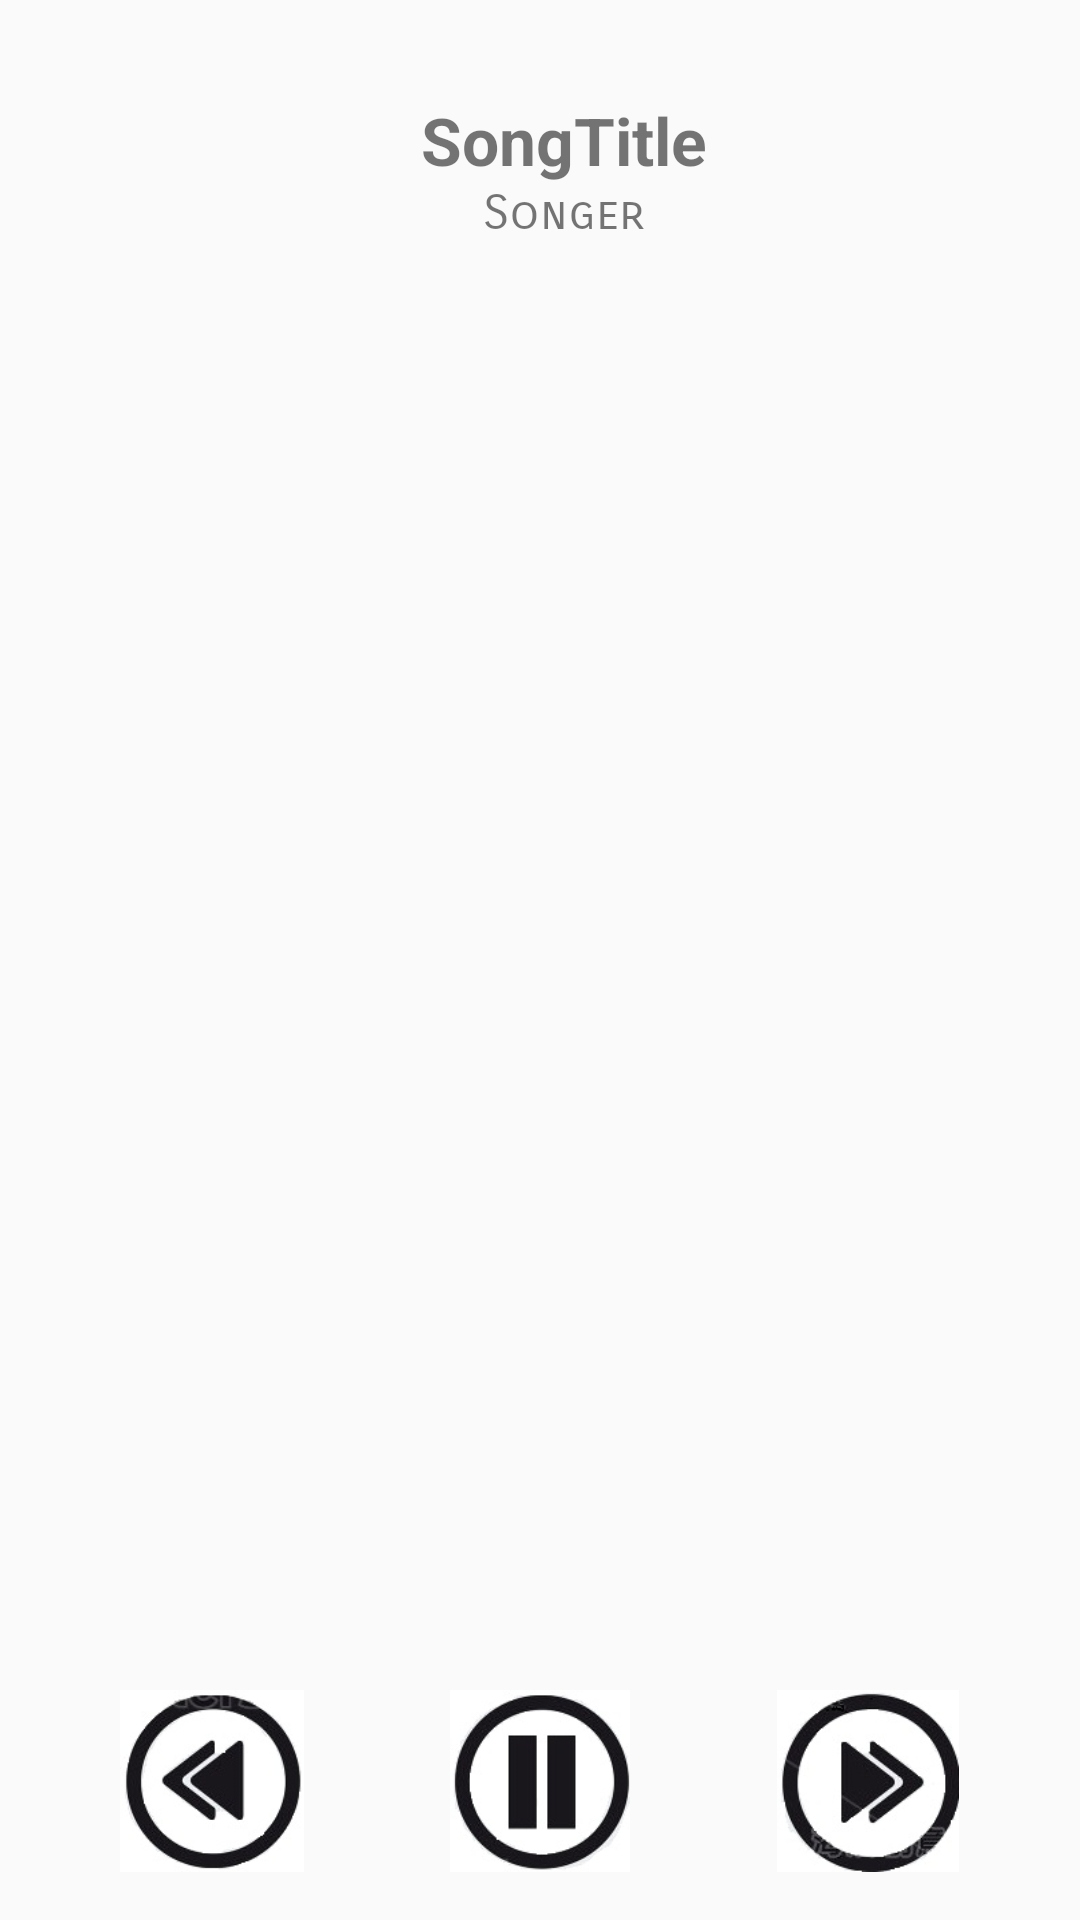

Locate icon controls on the screen. Image size 1080px x 1920px, boxes as (x1, y1, x2, y2).
next: (782, 1694, 959, 1872)
pause: (454, 1695, 629, 1870)
previe: (126, 1695, 301, 1869)
